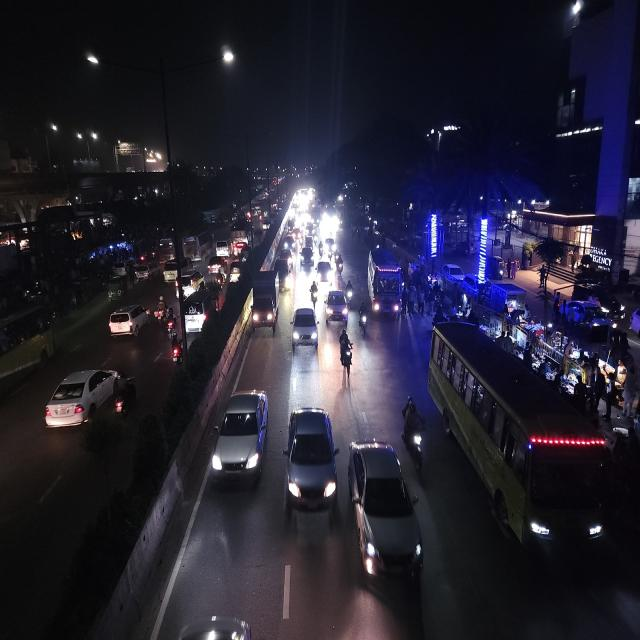bus: (428, 320, 615, 577), (0, 299, 54, 397), (365, 246, 405, 324), (182, 228, 212, 260)
car: (347, 436, 425, 584), (208, 385, 270, 493), (284, 400, 338, 520), (40, 363, 113, 437), (106, 300, 152, 342), (290, 304, 320, 355), (180, 288, 210, 335), (324, 288, 348, 326), (173, 270, 206, 296), (162, 257, 196, 282), (315, 259, 333, 288), (299, 246, 315, 270), (132, 263, 152, 282), (208, 255, 226, 275), (230, 257, 242, 285), (214, 238, 229, 256), (284, 234, 295, 251)
cng: (105, 274, 129, 302)
motorcycle: (402, 393, 428, 474), (112, 370, 138, 422), (338, 328, 354, 379), (168, 332, 184, 369), (357, 298, 369, 339), (154, 295, 168, 325), (308, 279, 320, 309), (166, 312, 178, 340), (344, 276, 355, 304), (334, 251, 345, 276)
truck: (250, 267, 280, 337)
